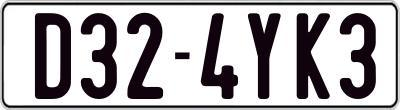2: (127, 12, 169, 104)
3: (80, 13, 121, 105), (337, 13, 374, 99)
4: (199, 13, 241, 104)
D: (35, 11, 74, 102)
K: (294, 12, 330, 104)
Y: (247, 13, 286, 100)
